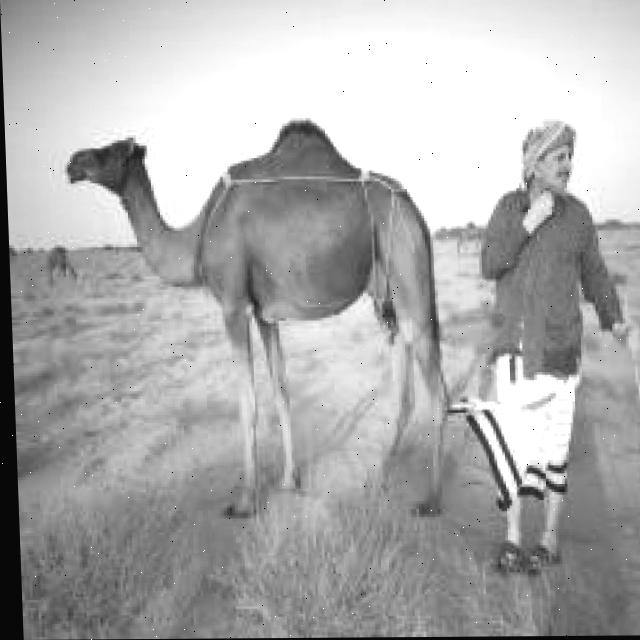Camel: (63, 117, 454, 520)
